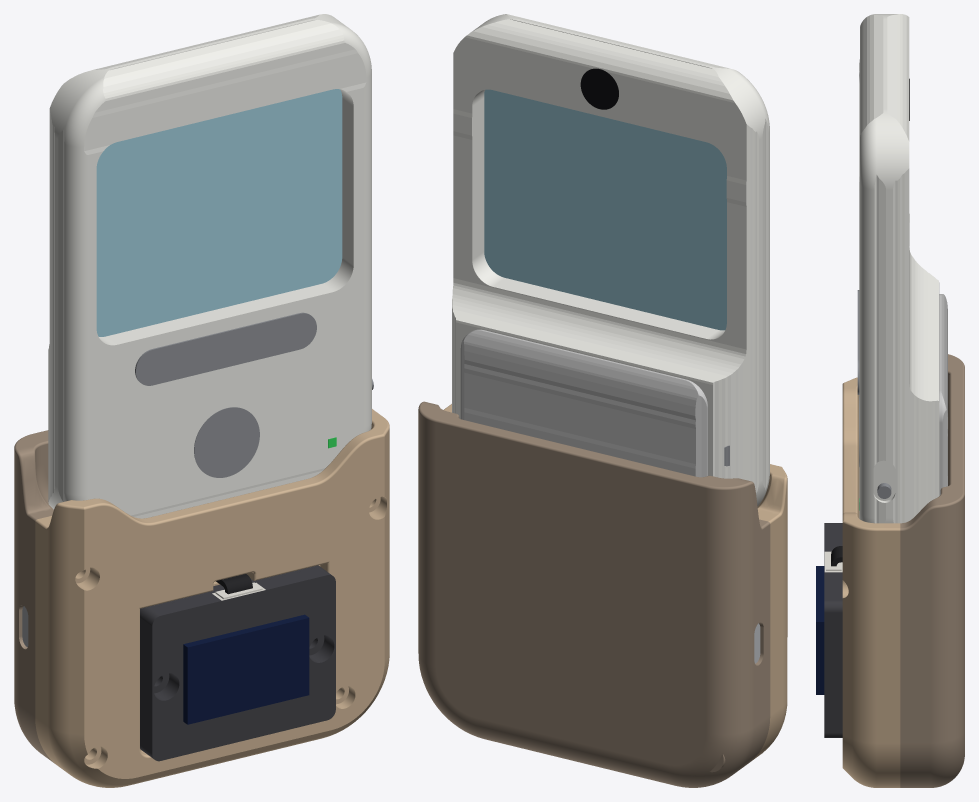
The model's file is case.glb.
The picture shows the model from 3 angles, left to right: view 1: azimuth 30°, elevation 25°; view 2: azimuth 150°, elevation 25°; view 3: azimuth 270°, elevation 25°; orthographic projection. The views are drawn at different scales.
Parts seen in each view (by area): view 1: camera_body, back, camera_window, screen_frame, screen_display, front, camera_pill, camera_shutter, screen_plate; view 2: front, camera_body, camera_window, camera_panel, back, camera_lens; view 3: camera_body, front, back, screen_frame, camera_panel, screen_display, camera_pill.
Part boxes in pixels (left/top/right/bottom): camera_body: left=48, top=14, right=371, bottom=518; back: left=35, top=409, right=389, bottom=787; camera_window: left=96, top=89, right=342, bottom=336; screen_frame: left=142, top=567, right=335, bottom=761; screen_display: left=183, top=614, right=309, bottom=724; front: left=14, top=430, right=54, bottom=763; camera_pill: left=135, top=312, right=316, bottom=385; camera_shutter: left=194, top=407, right=259, bottom=477; screen_plate: left=140, top=565, right=324, bottom=751; front: left=418, top=401, right=770, bottom=787; camera_body: left=452, top=14, right=769, bottom=506; camera_window: left=484, top=89, right=726, bottom=330; camera_panel: left=460, top=329, right=707, bottom=477; back: left=444, top=404, right=787, bottom=761; camera_lens: left=580, top=68, right=618, bottom=109; camera_body: left=859, top=14, right=939, bottom=523; front: left=900, top=354, right=964, bottom=787; back: left=842, top=377, right=900, bottom=787; screen_frame: left=824, top=523, right=842, bottom=737; camera_panel: left=939, top=294, right=947, bottom=495; screen_display: left=816, top=566, right=824, bottom=694; camera_pill: left=857, top=290, right=859, bottom=394.
Size of the model in its own units: 0.0789 by 0.1594 by 0.032.
